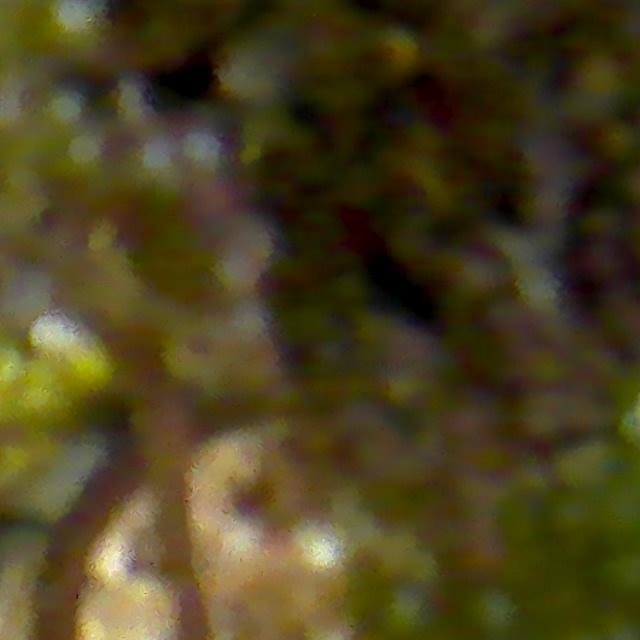SeaGrape: (557, 439, 619, 494), (467, 585, 524, 640), (599, 547, 640, 602)
